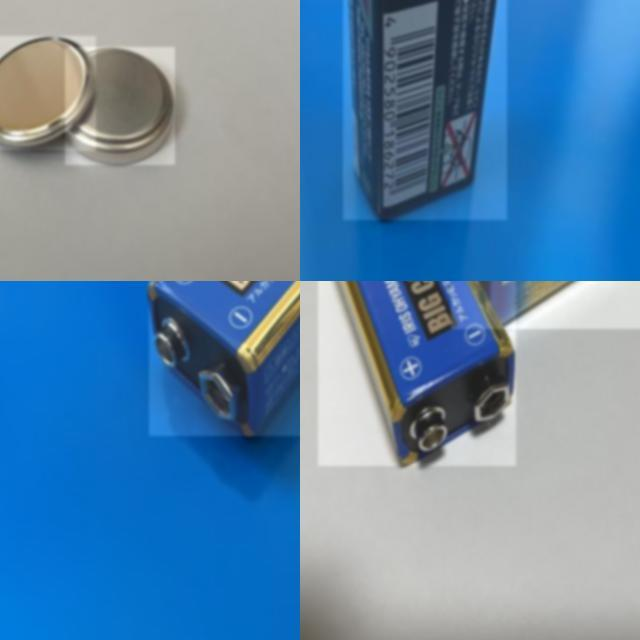9V: (318, 281, 516, 466), (343, 0, 507, 220), (149, 281, 300, 436)
